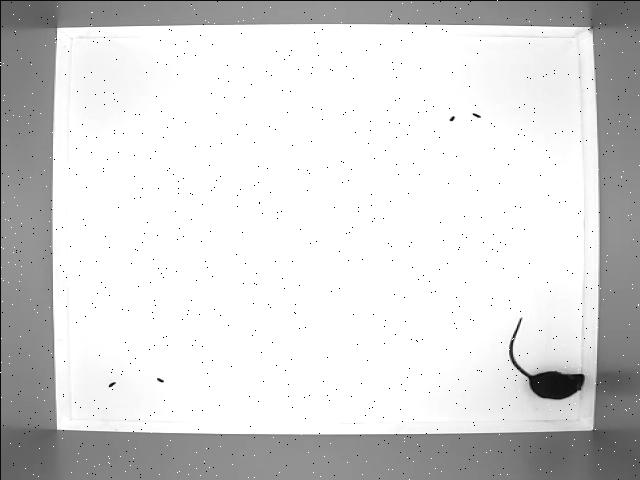Tikus: (508, 315, 584, 401)
